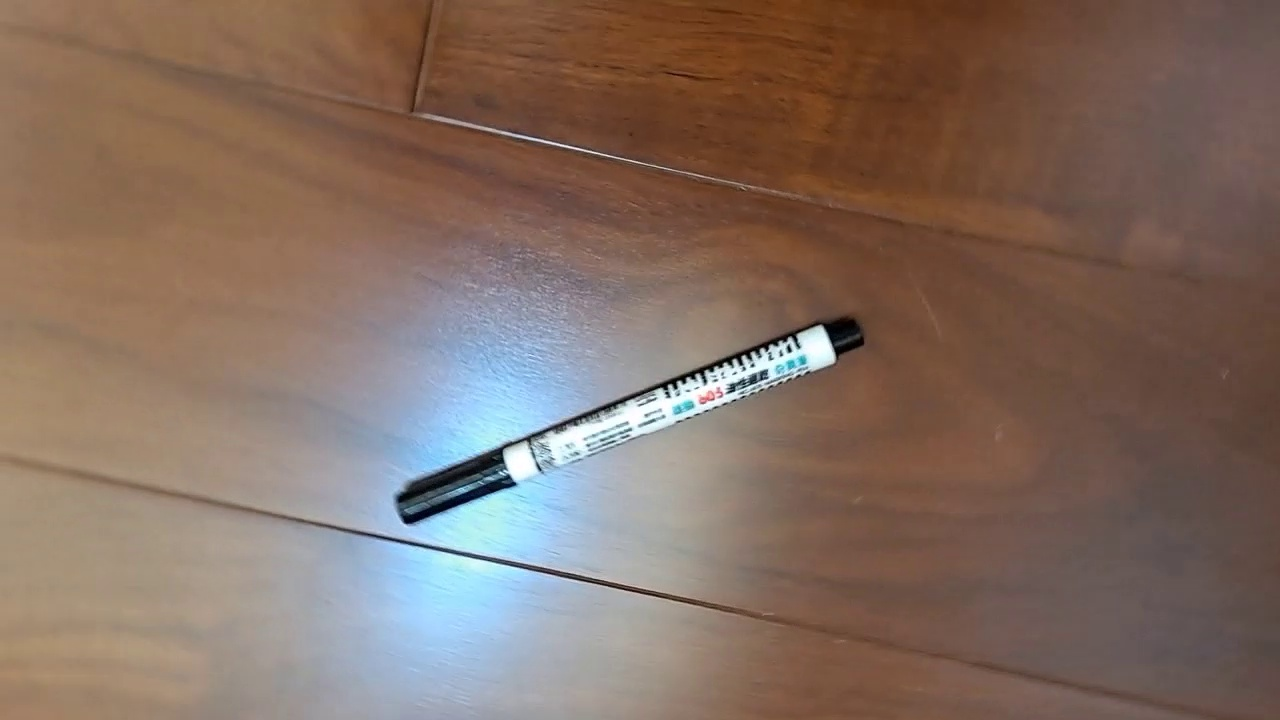pen: (394, 314, 866, 526)
